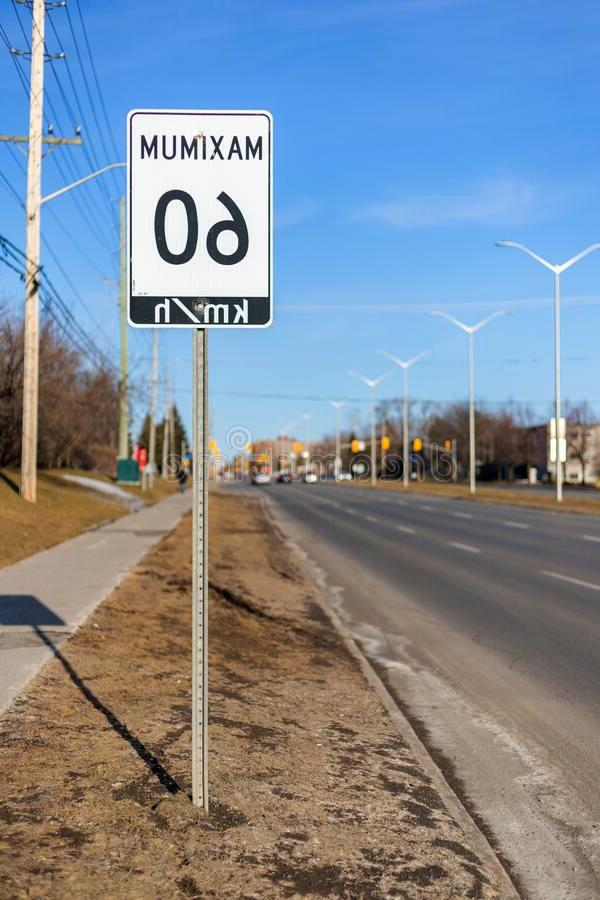speed limit sign: (125, 110, 276, 327)
